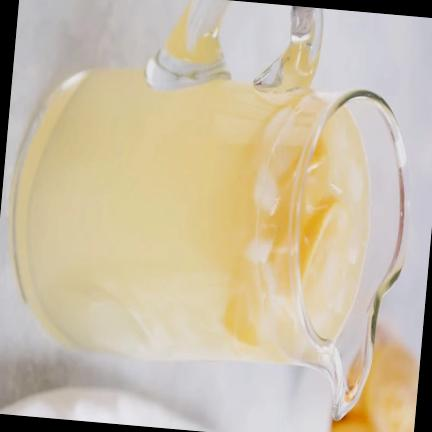container: (11, 69, 408, 420)
fluid: (9, 69, 312, 364)
fluid-surface: (256, 91, 369, 364)
